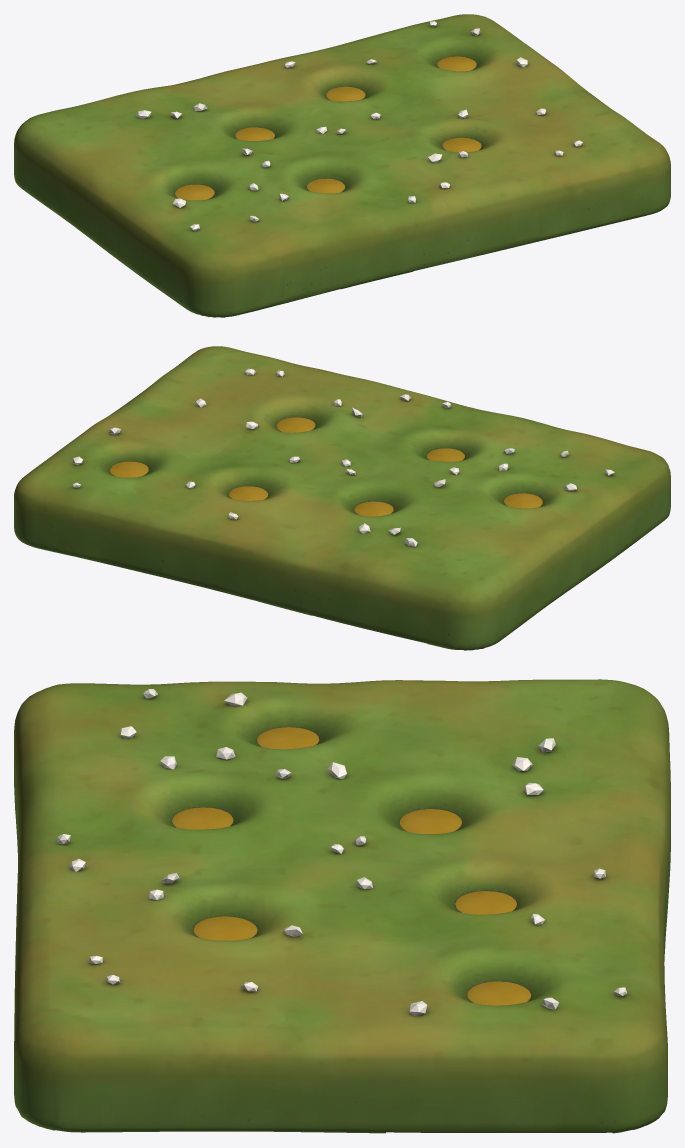
The model's file is focaccia--matcha-ground.glb.
3 renders of one model, top to bottom at view 1: azimuth 30°, elevation 25°; view 2: azimuth 150°, elevation 25°; view 3: azimuth 270°, elevation 25°, orthographic. The views are drawn at different scales.
Visible parts, largest first — view 1: focaccia_matcha-ground; view 2: focaccia_matcha-ground; view 3: focaccia_matcha-ground.
Part boxes in pixels (bbox=[...]): focaccia_matcha-ground: bbox=[14, 14, 670, 317]; focaccia_matcha-ground: bbox=[14, 346, 670, 650]; focaccia_matcha-ground: bbox=[14, 679, 670, 1133].
Size of the model in its own units: 1.01 by 0.1379 by 0.7441.
Materials: 1 (1 with a texture image).
